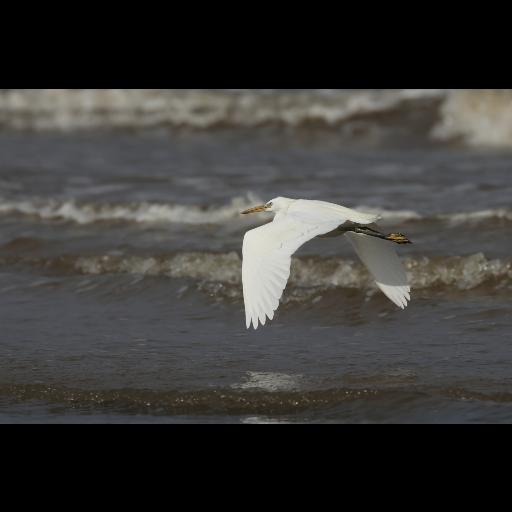chinese_egret: (240, 194, 414, 330)
